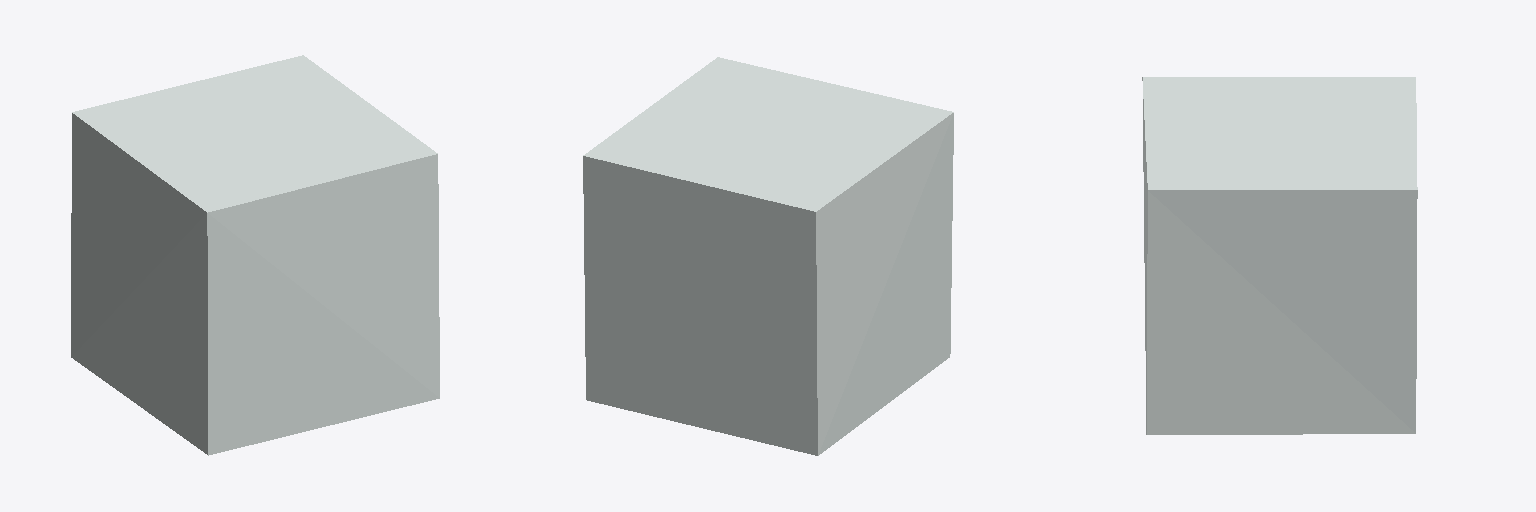
3 views of the same model, side by side, from view 1: azimuth 30°, elevation 25°; view 2: azimuth 150°, elevation 25°; view 3: azimuth 270°, elevation 25° (orthographic).
Parts seen in each view (by area): view 1: group[number redacted]; view 2: group[number redacted]; view 3: group[number redacted].
Boxes of the visible parts, <box> form: group[number redacted]: <box>71,55,439,455</box>; group[number redacted]: <box>583,57,953,455</box>; group[number redacted]: <box>1142,77,1417,434</box>.
Bounding box in the file's own units: 2.01 × 2 × 2.04.